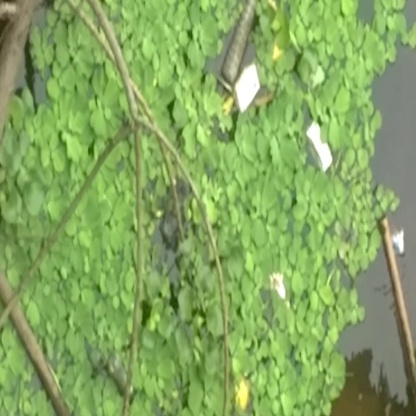branch: (373, 217, 416, 370)
